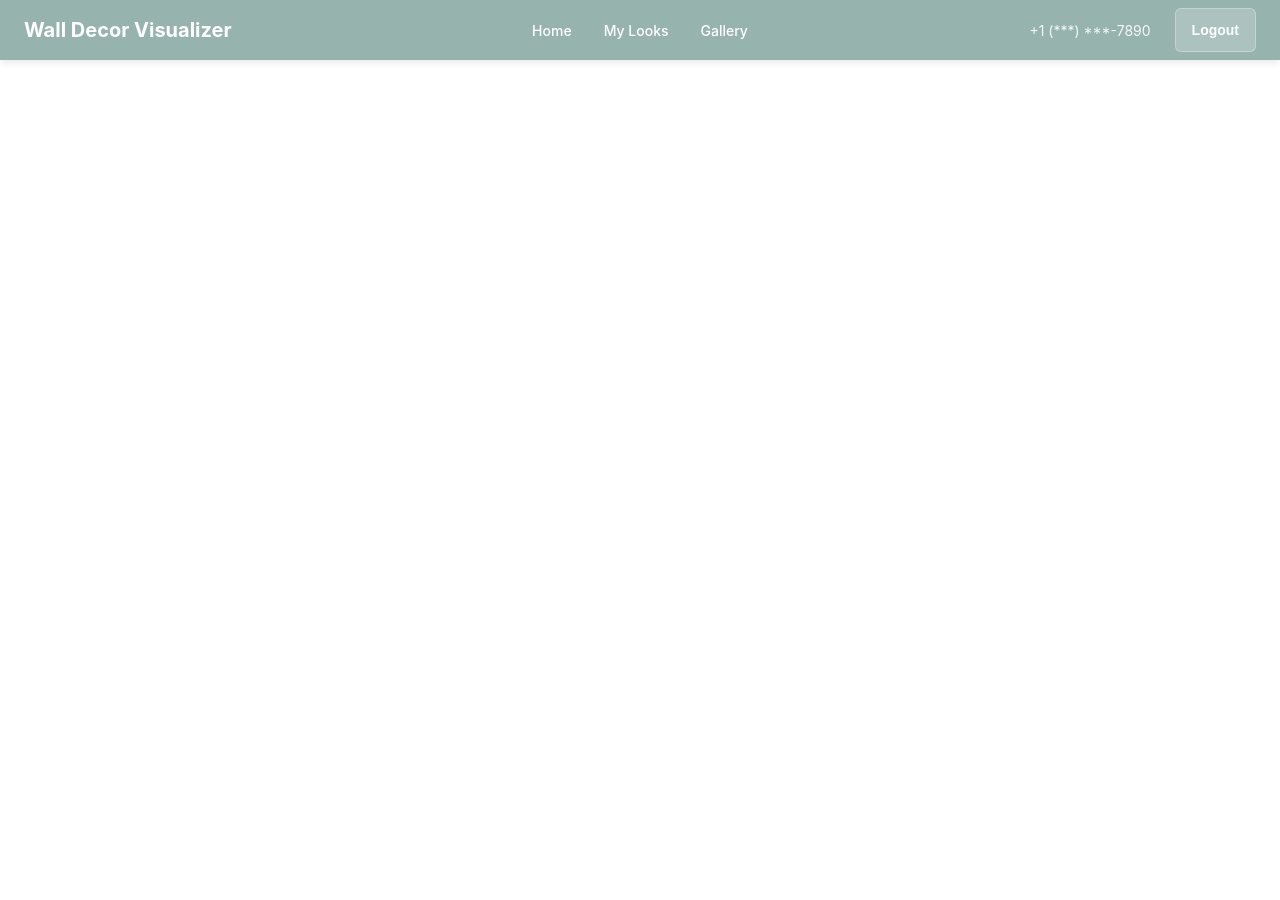
Scenario: Logout Flow - Frontend Integration Tests › Logout Button Interaction › should show confirmation dialog when logout button is clicked
The image size is (1280, 900).
Click the button "Logout". click: (1215, 30)
box: [1175,8,1256,52]
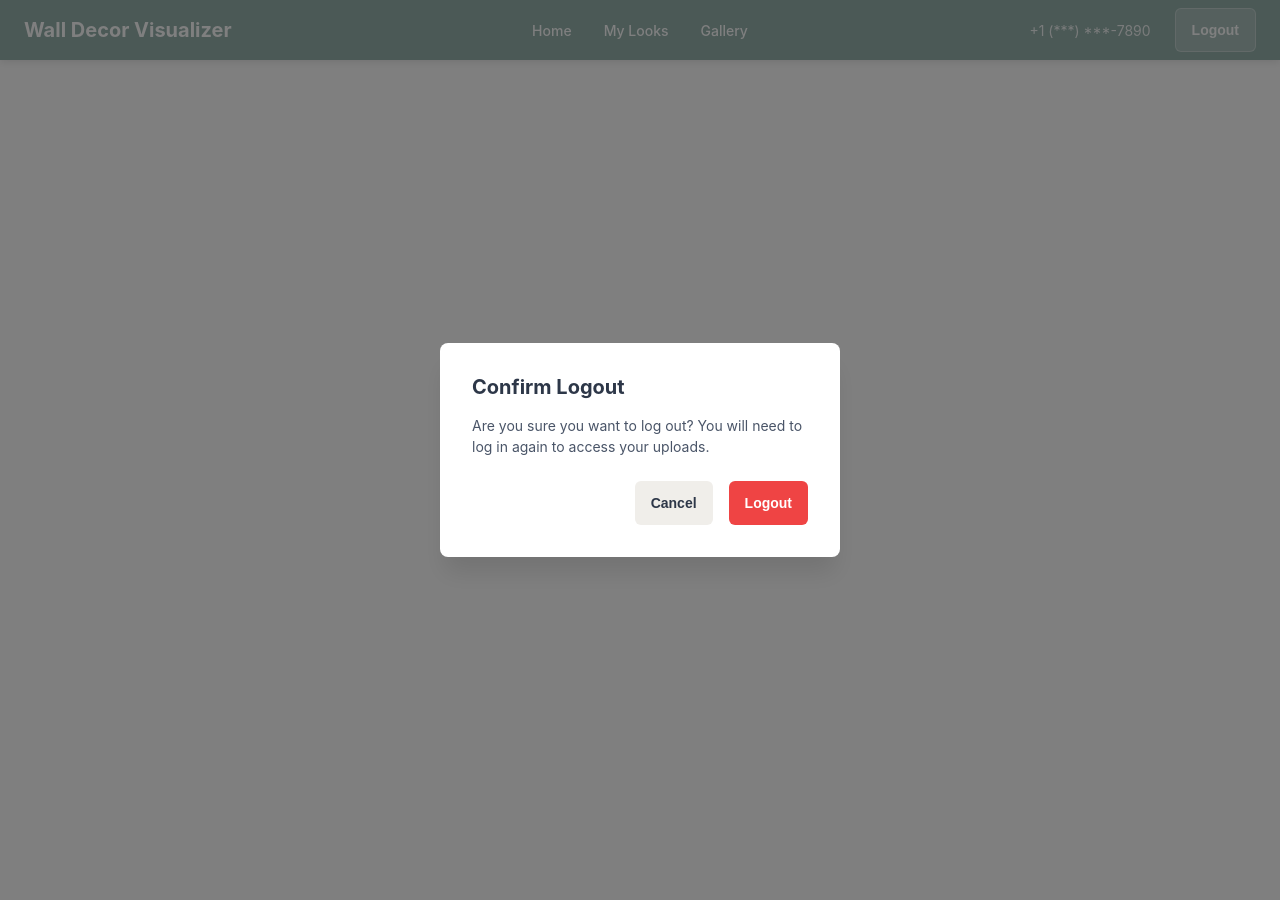
Expected: the heading "Confirm Logout" is shown, [472,375,625,399]
